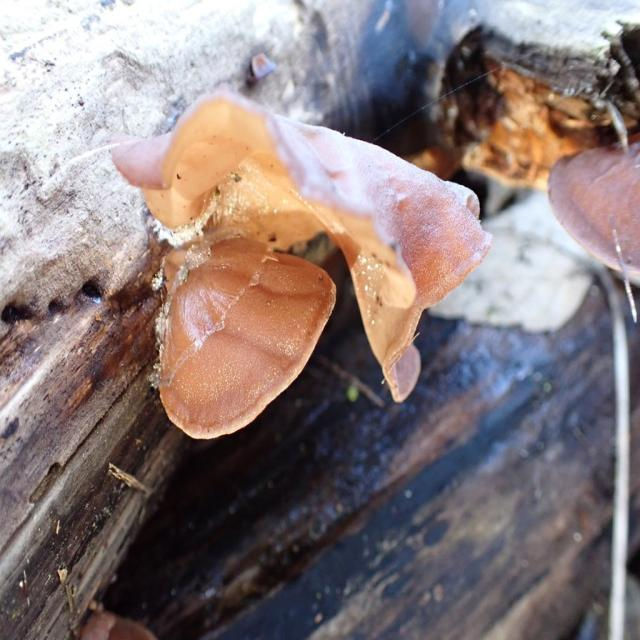Fase Muda: (105, 82, 500, 411), (143, 236, 338, 444)
Matang: (547, 125, 640, 297)
